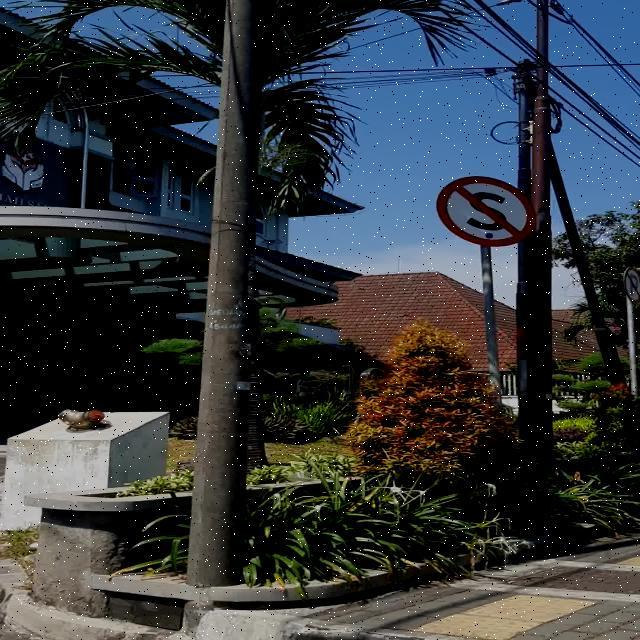Dilarang Berhenti: (437, 176, 535, 246)
